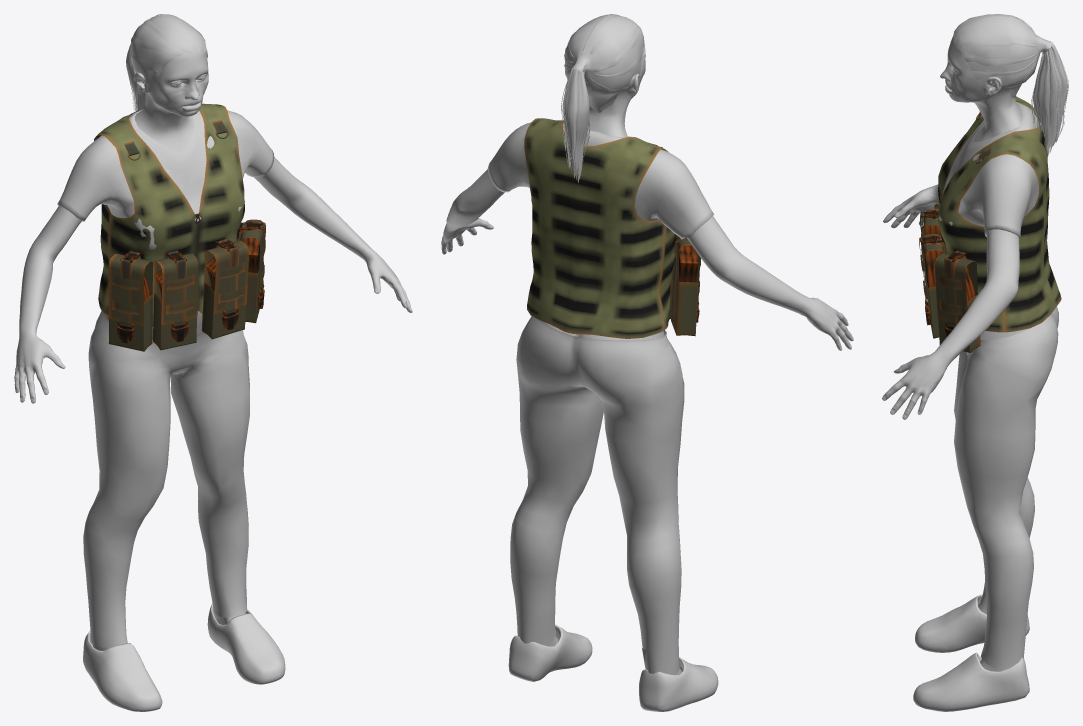
The model's file is policefemale.fbx.
The picture shows the model from 3 angles, left to right: view 1: azimuth 30°, elevation 25°; view 2: azimuth 150°, elevation 25°; view 3: azimuth 270°, elevation 25°; orthographic projection. The views are drawn at different scales.
Visible parts, largest first — view 1: female_sportsuit01Mesh, tactical_vest_femaleMesh, policefemaleMesh, shoes05Mesh, ponytail01Mesh; view 2: female_sportsuit01Mesh, tactical_vest_femaleMesh, policefemaleMesh, ponytail01Mesh, shoes05Mesh; view 3: female_sportsuit01Mesh, tactical_vest_femaleMesh, policefemaleMesh, ponytail01Mesh, shoes05Mesh.
Boxes of the visible parts, <box> form: female_sportsuit01Mesh: <box>57,109,274,647</box>; tactical_vest_femaleMesh: <box>94,103,265,351</box>; policefemaleMesh: <box>14,52,412,403</box>; shoes05Mesh: <box>83,603,285,711</box>; ponytail01Mesh: <box>126,14,207,111</box>; female_sportsuit01Mesh: <box>487,122,713,674</box>; tactical_vest_femaleMesh: <box>524,118,701,338</box>; policefemaleMesh: <box>441,59,853,350</box>; ponytail01Mesh: <box>561,14,645,182</box>; shoes05Mesh: <box>508,616,718,711</box>; female_sportsuit01Mesh: <box>938,102,1058,669</box>; tactical_vest_femaleMesh: <box>919,96,1061,352</box>; policefemaleMesh: <box>882,36,1028,419</box>; ponytail01Mesh: <box>953,14,1068,156</box>; shoes05Mesh: <box>913,594,1029,711</box>.
Size of the model in its own units: 10.33 by 16.57 by 4.26.
